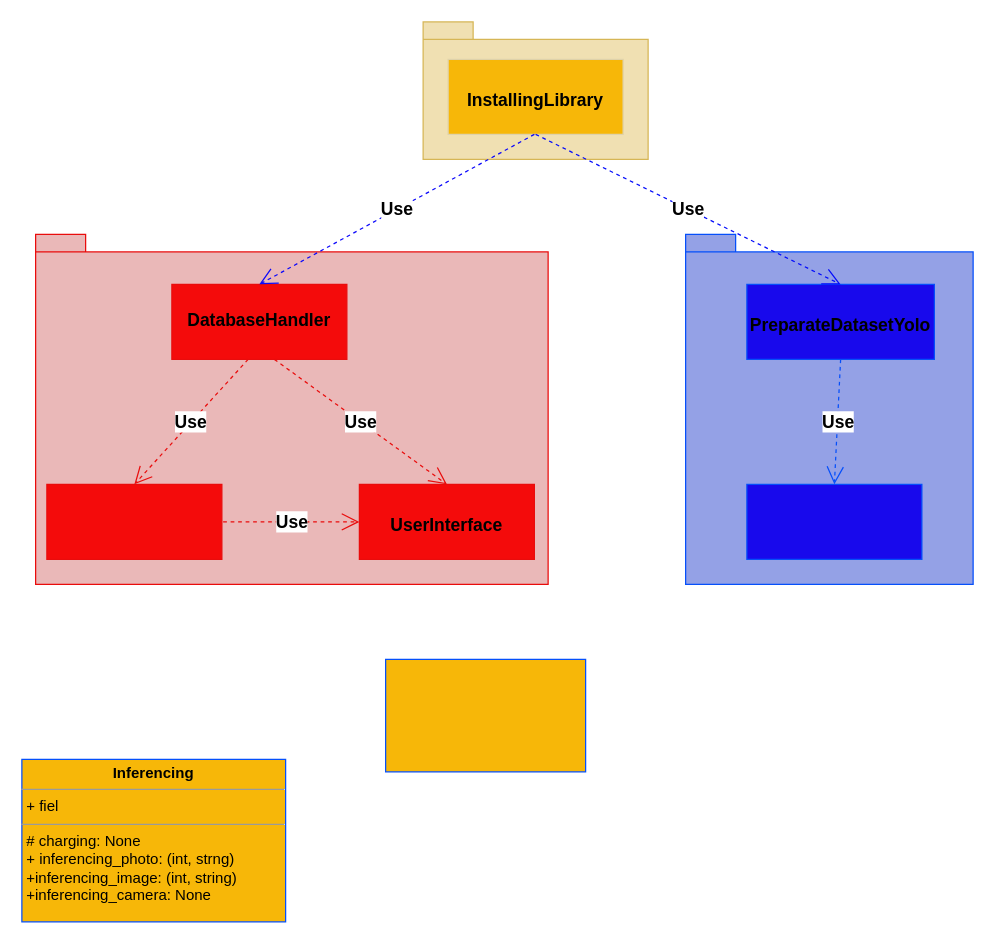
The diagram is 995 pixels wide and 944 high, and some of its shapes have lost their labels. Each missing label, with the centre of its shape:
Inferencing: [134,521]
InstallLibrary + fiel # installing_librairies: None: [485,715]
TrainingYolo: [834,521]
